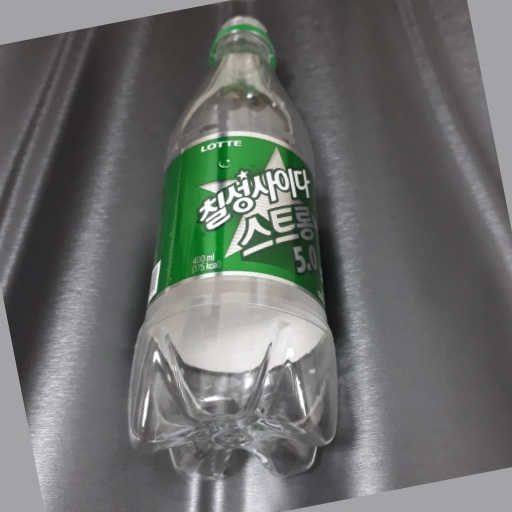Plastic_0: (126, 15, 339, 488)
